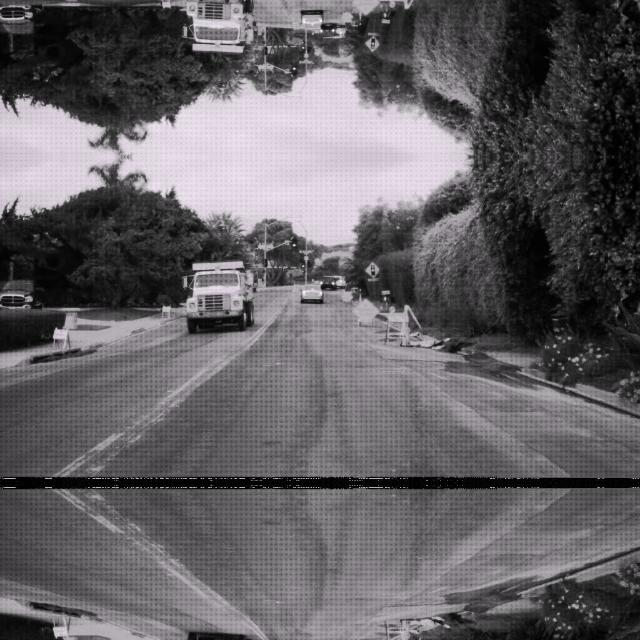signalAhead: (364, 260, 380, 276), (364, 36, 380, 52)
